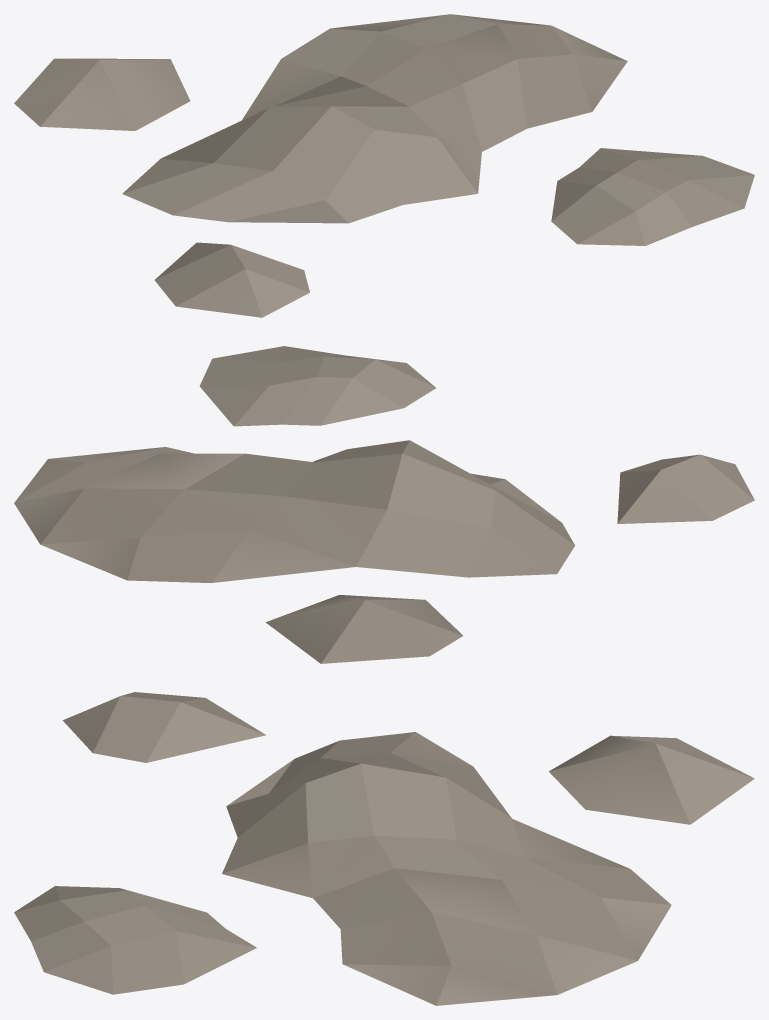
The picture shows the model from 3 angles, top to bottom: view 1: azimuth 30°, elevation 25°; view 2: azimuth 150°, elevation 25°; view 3: azimuth 270°, elevation 25°; orthographic projection. The views are drawn at different scales.
Parts seen in each view (by area): view 1: deposit_01; view 2: deposit_01; view 3: deposit_01.
Part boxes in pixels (x1,y1,x2,y2): deposit_01: (14,14,754,317); deposit_01: (14,346,754,663); deposit_01: (14,692,754,1005).
Size of the model in its own units: 10.82 by 1.07 by 10.79.
1 material, 1 textured.
